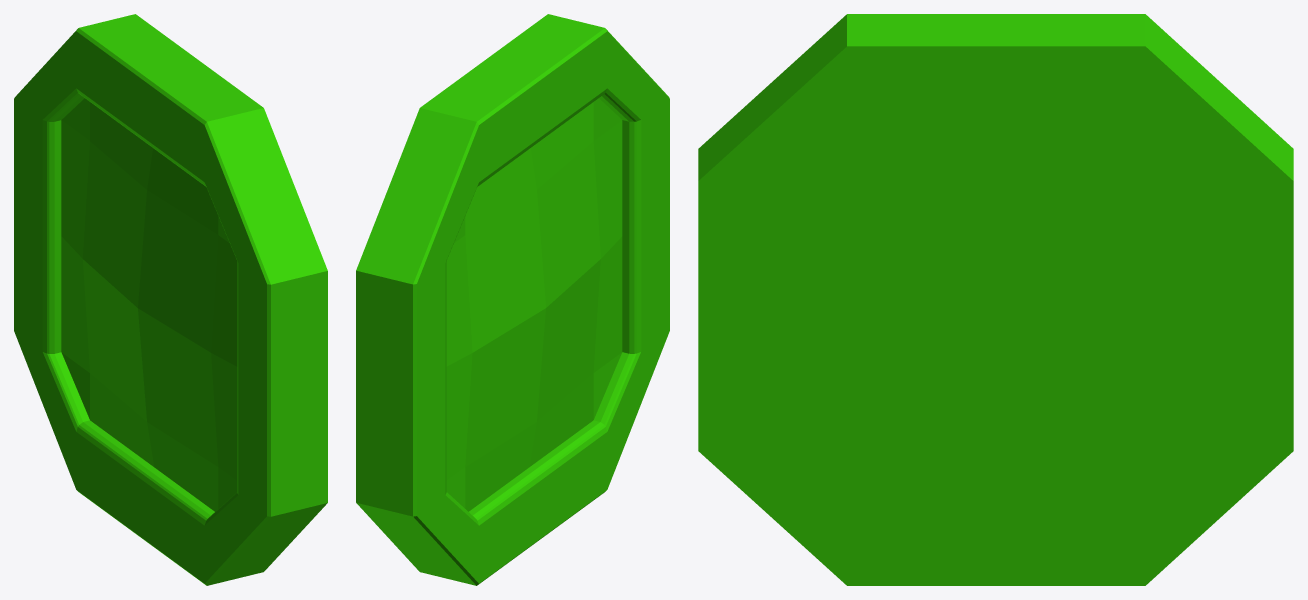
Rendered from Gem_Green.fbx.
The picture shows the model from 3 angles, left to right: view 1: azimuth 30°, elevation 25°; view 2: azimuth 150°, elevation 25°; view 3: azimuth 270°, elevation 25°; orthographic projection. The views are drawn at different scales.
Parts seen in each view (by area): view 1: Octagon; view 2: Octagon; view 3: Octagon.
Part boxes in pixels (x1,y1,x2,y2): Octagon: (14, 14, 327, 585); Octagon: (356, 14, 669, 585); Octagon: (698, 14, 1293, 585).
Bounding box in the file's own units: 12.75 × 91.22 × 91.22.
